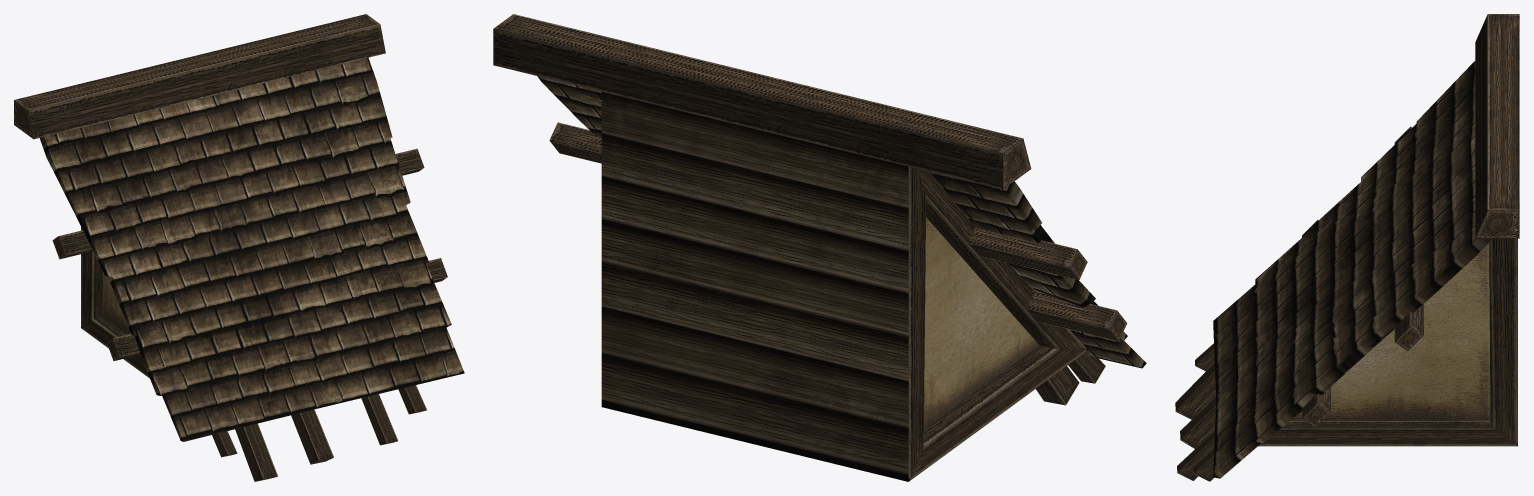
Rendered from Roof_4X4_02a.fbx.
The picture shows the model from 3 angles, left to right: view 1: azimuth 30°, elevation 25°; view 2: azimuth 150°, elevation 25°; view 3: azimuth 270°, elevation 25°; orthographic projection. The views are drawn at different scales.
Parts seen in each view (by area): view 1: Roof_4X4_02a; view 2: Roof_4X4_02a; view 3: Roof_4X4_02a.
Part boxes in pixels (x1=…): Roof_4X4_02a: x1=14, y1=14, x2=464, y2=481; Roof_4X4_02a: x1=493, y1=14, x2=1146, y2=481; Roof_4X4_02a: x1=1175, y1=14, x2=1519, y2=481.
Bounding box in the file's own units: 6.77 × 5.46 × 4.94.
